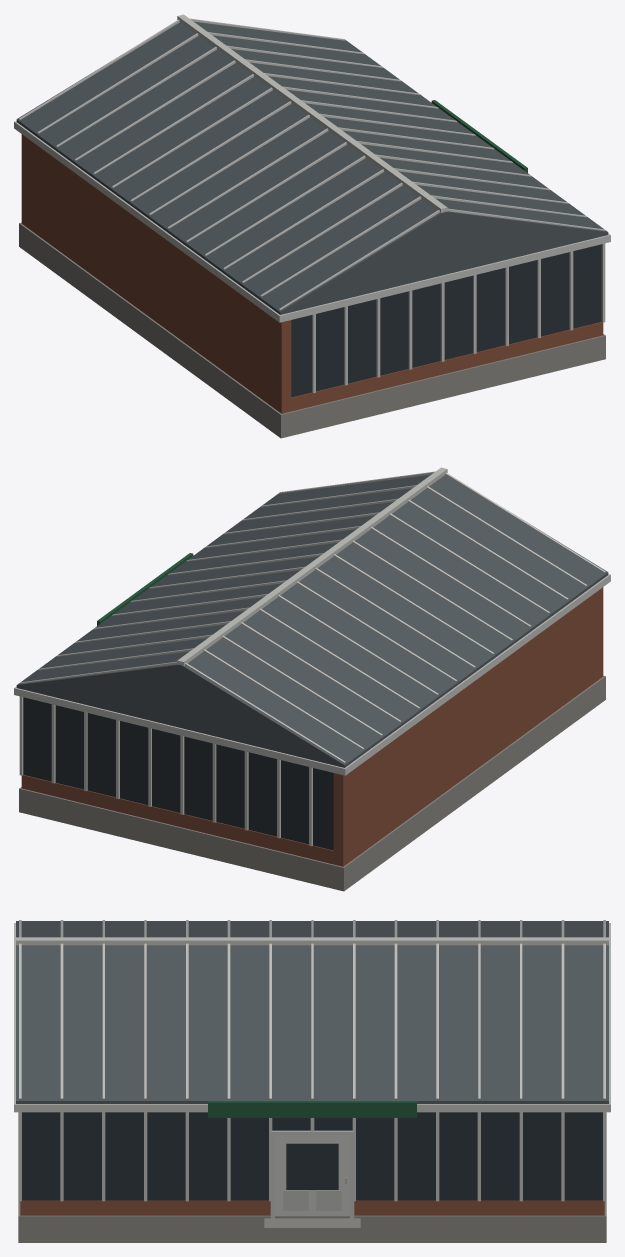
The model's file is SM_Prop_cafe_building_10.glb.
The picture shows the model from 3 angles, top to bottom: view 1: azimuth 30°, elevation 25°; view 2: azimuth 150°, elevation 25°; view 3: azimuth 270°, elevation 25°; orthographic projection. The views are drawn at different scales.
Parts seen in each view (by area): view 1: SM_Prop_cafe_building_10; view 2: SM_Prop_cafe_building_10; view 3: SM_Prop_cafe_building_10.
Part boxes in pixels (x1,y1,x2,y2): SM_Prop_cafe_building_10: (14,14,610,438); SM_Prop_cafe_building_10: (14,467,610,891); SM_Prop_cafe_building_10: (14,920,610,1242).
Size of the model in its own units: 10.75 by 5.68 by 14.3.
